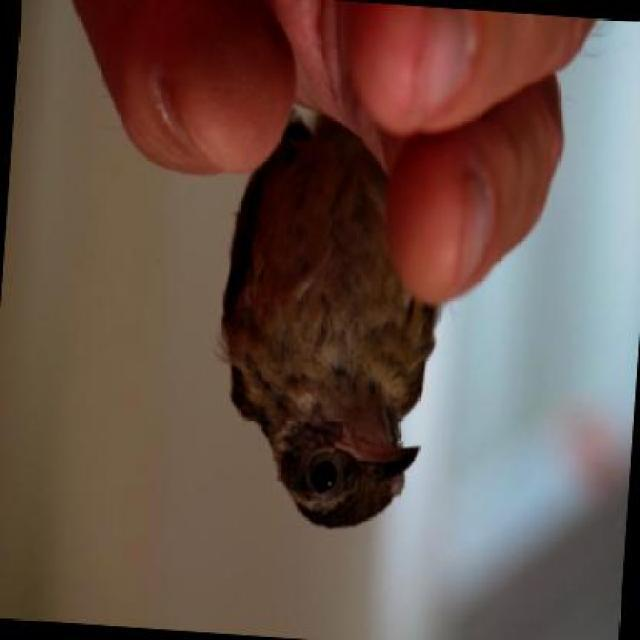Bird: (203, 102, 450, 550)
